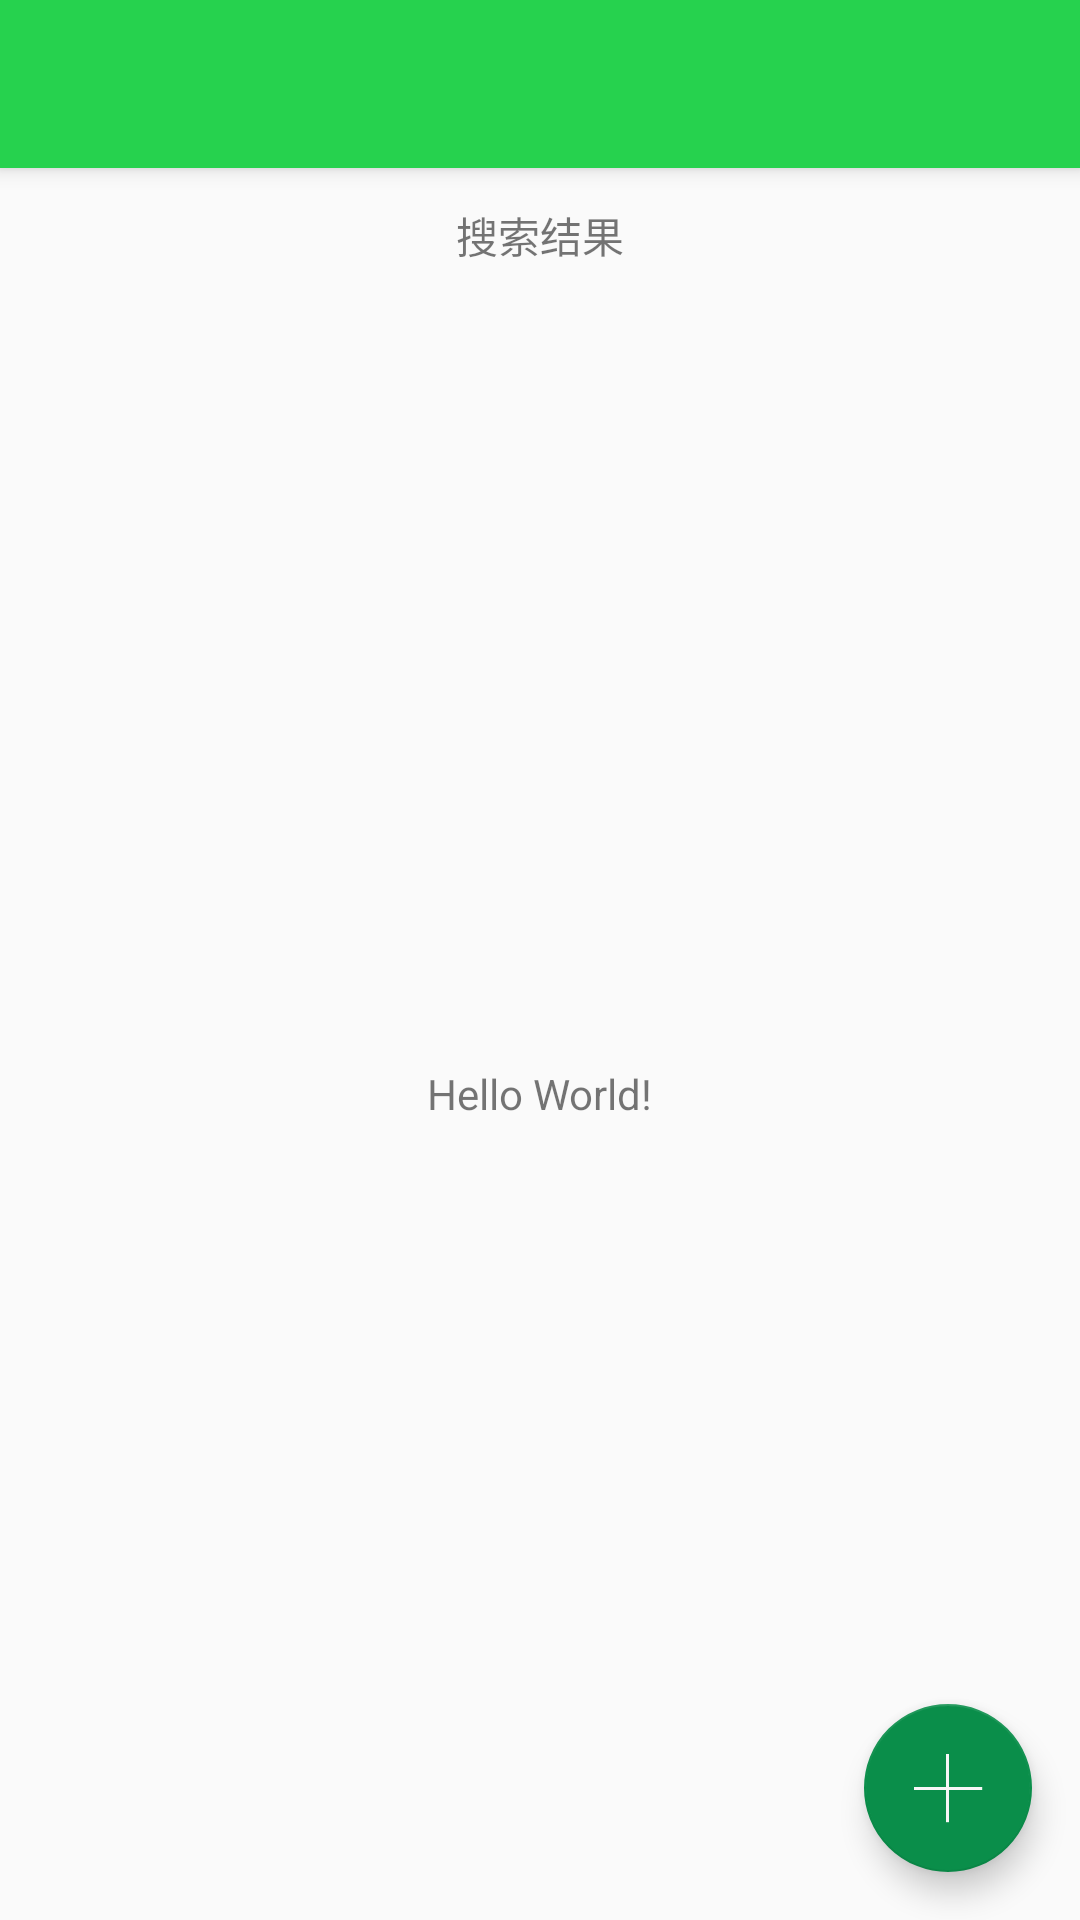

Named icons in this screenshot (1080px x 1920px) and their centers, point (x, y):
plus: point (948, 1788)
